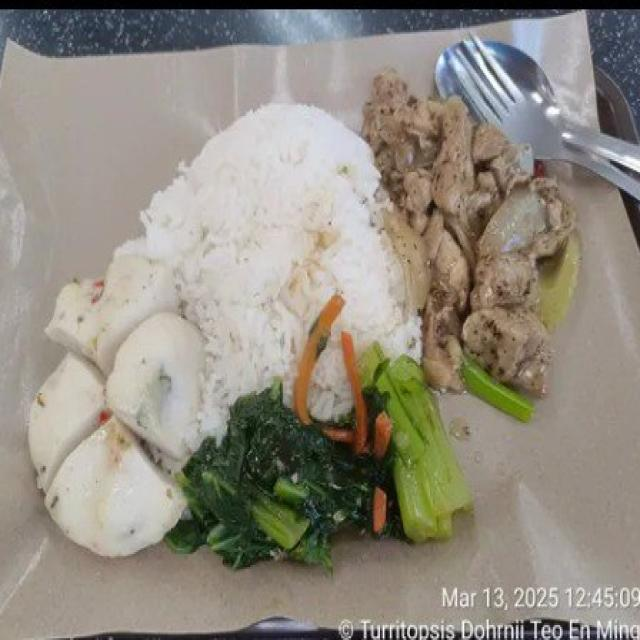Chicken: (363, 71, 574, 393)
Fish: (27, 253, 204, 556)
Green veg: (166, 344, 469, 567), (461, 356, 531, 419)
Rice: (116, 103, 420, 438)
